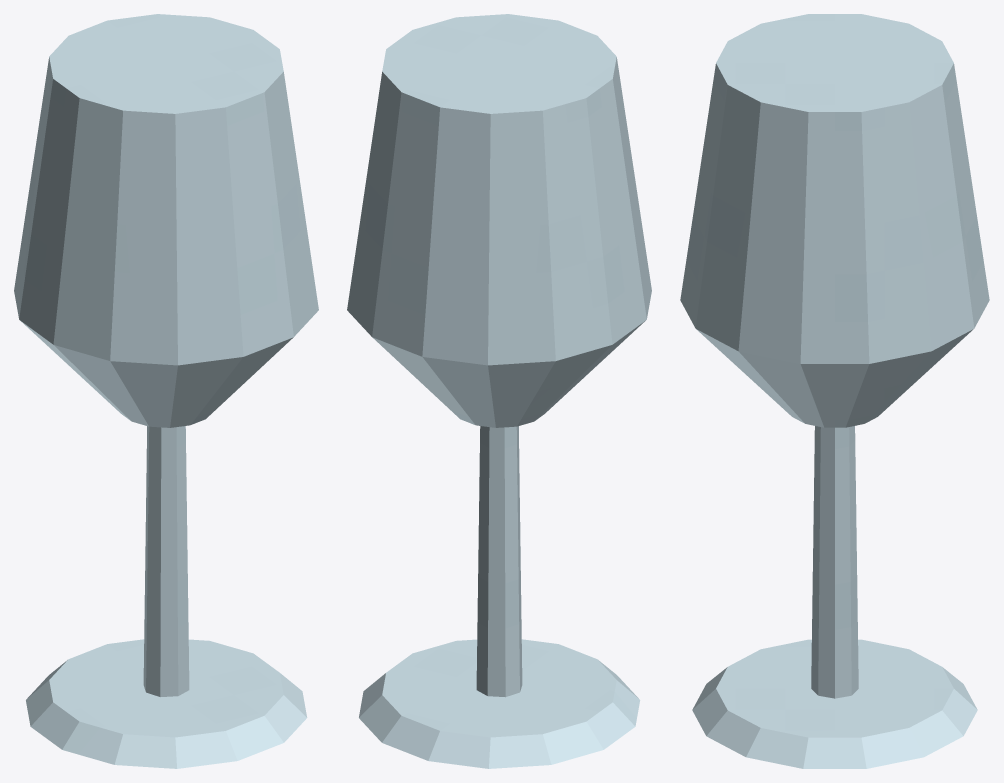
3 renders of one model, left to right at view 1: azimuth 30°, elevation 25°; view 2: azimuth 150°, elevation 25°; view 3: azimuth 270°, elevation 25°, orthographic.
Visible parts, largest first — view 1: red_wine; view 2: red_wine; view 3: red_wine.
Part boxes in pixels (left/top/right/bottom): red_wine: left=14, top=14, right=318, bottom=768; red_wine: left=347, top=14, right=651, bottom=768; red_wine: left=680, top=14, right=989, bottom=768.
Size of the model in its own units: 0.076 by 0.18 by 0.078.
Materials: 2 (2 with a texture image).
